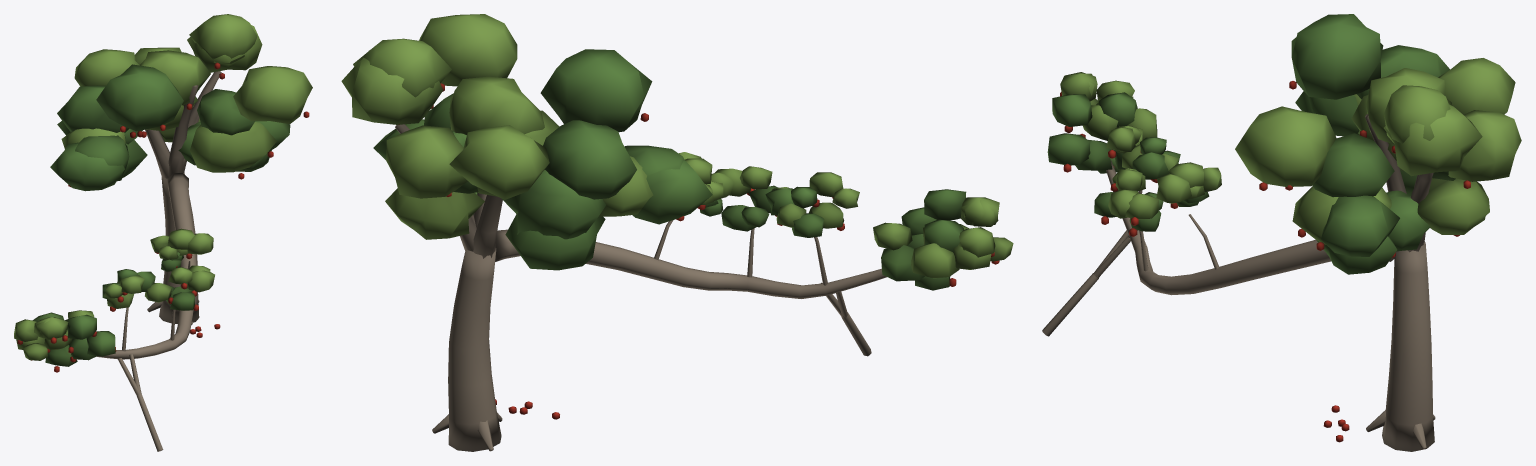
Rendered from AppleBough.fbx.
3 views of the same model, side by side, from view 1: azimuth 30°, elevation 25°; view 2: azimuth 150°, elevation 25°; view 3: azimuth 270°, elevation 25° (orthographic). The views are drawn at different scales.
Visible parts, largest first — view 1: AppleBough; view 2: AppleBough; view 3: AppleBough.
Part boxes in pixels (x1,y1,x2,y2): AppleBough: [14, 14, 312, 451]; AppleBough: [341, 14, 1013, 451]; AppleBough: [1042, 14, 1521, 451].
Bounding box in the file's own units: 5.41 × 4.1 × 4.62.
